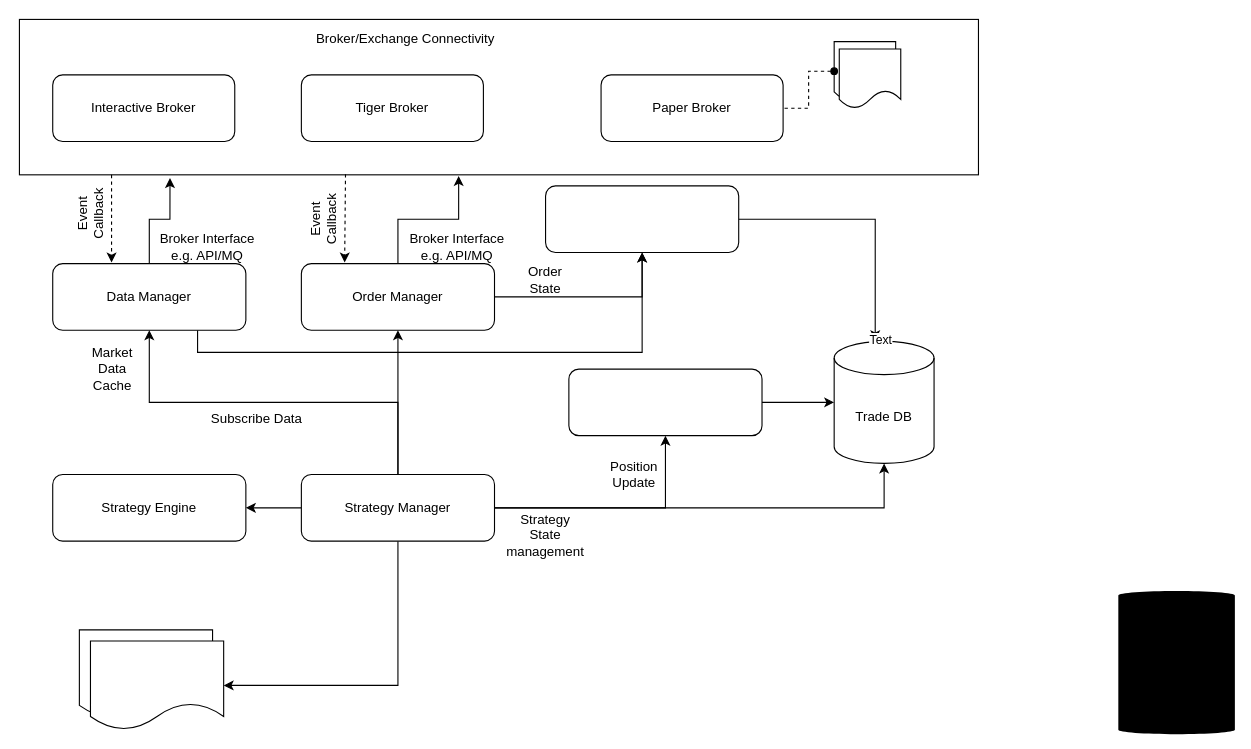
Image size: 1251x749. Some labels were removed from this diagram. The shapes that lost their labels are listed below. From the top down, each one's centre as x and y in pixels, then its label:
At (x=869, y=78): "Market Events".
At (x=641, y=219): "DB Manager".
At (x=665, y=402): "Reporting".
At (x=156, y=685): "Strategy Rules Configs".
